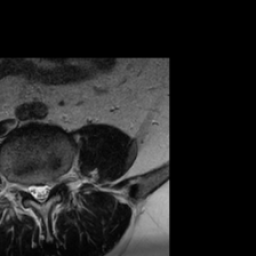CCS_normal: (36, 173, 43, 212)
LFS_normal: (51, 168, 59, 192)
LLS_normal: (43, 174, 51, 206)
RFS_normal: (20, 172, 28, 200)
RLS_normal: (28, 173, 36, 205)
